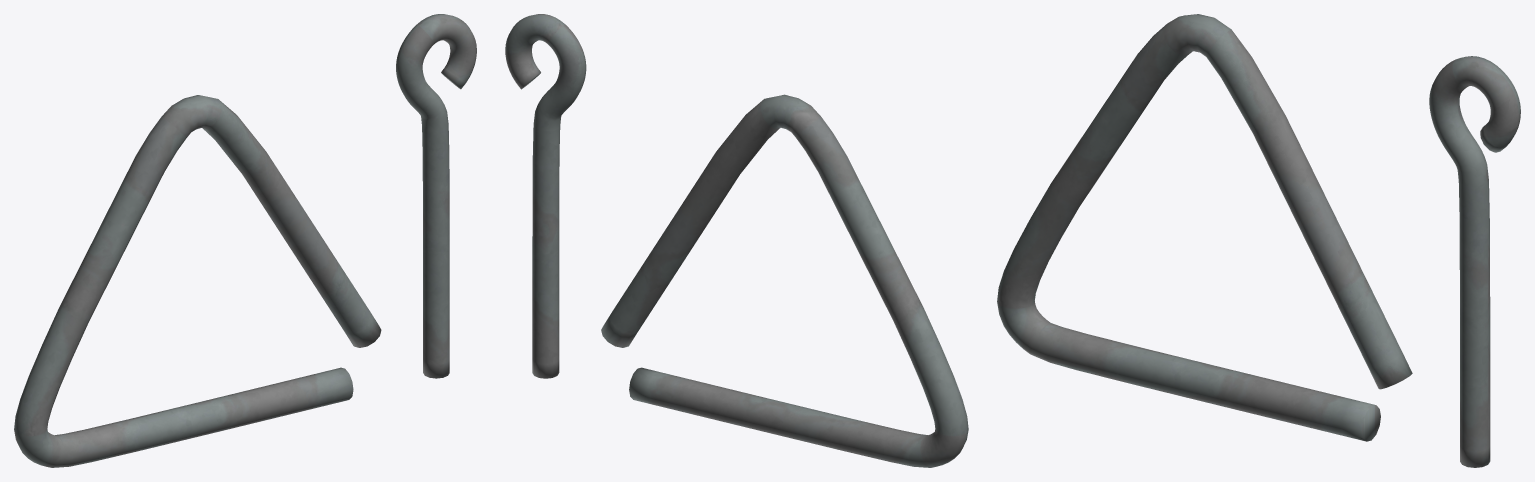
The model's file is Triangle.fbx.
3 renders of one model, left to right at view 1: azimuth 30°, elevation 25°; view 2: azimuth 150°, elevation 25°; view 3: azimuth 330°, elevation 25°, orthographic. The views are drawn at different scales.
Parts seen in each view (by area): view 1: Triangle_body_low.001, Triangle_stick_low.001; view 2: Triangle_body_low.001, Triangle_stick_low.001; view 3: Triangle_body_low.001, Triangle_stick_low.001.
Part boxes in pixels (box(x1,y1,x2,y2)): Triangle_body_low.001: box(14, 95, 381, 467); Triangle_stick_low.001: box(396, 14, 476, 378); Triangle_body_low.001: box(601, 94, 968, 467); Triangle_stick_low.001: box(505, 14, 586, 378); Triangle_body_low.001: box(997, 14, 1412, 441); Triangle_stick_low.001: box(1429, 56, 1520, 467).
Bounding box in the file's own units: 30.36 × 22.79 × 1.91.
Materials: 2 (2 with a texture image).
